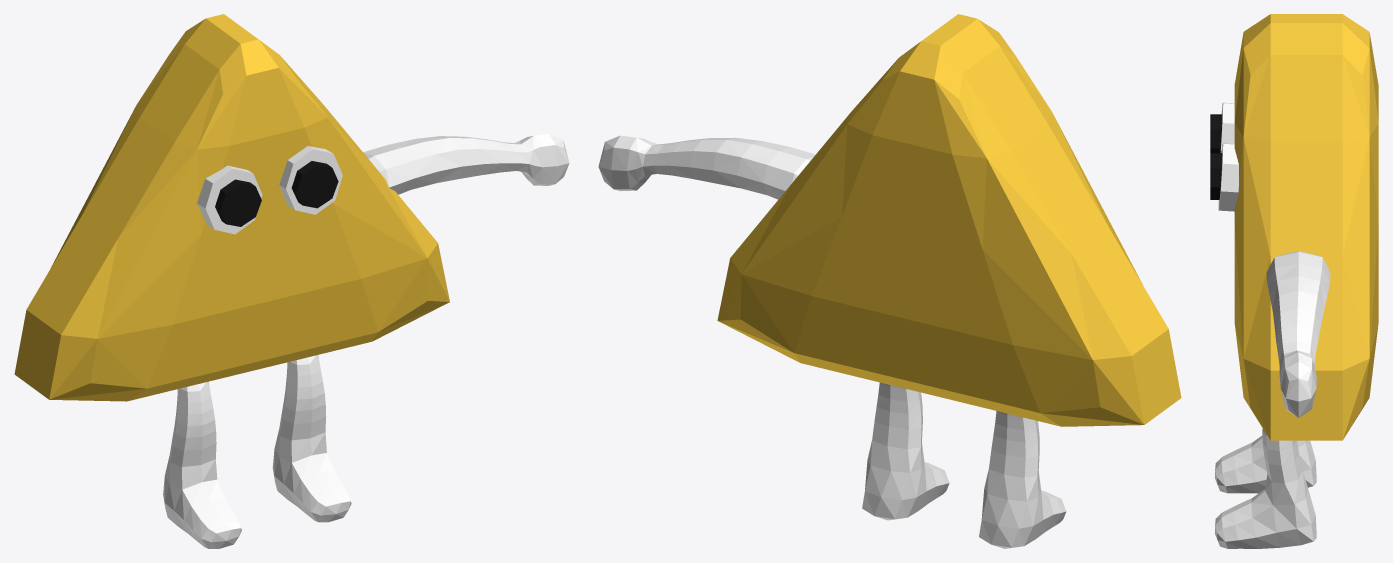
3 renders of one model, left to right at view 1: azimuth 30°, elevation 25°; view 2: azimuth 150°, elevation 25°; view 3: azimuth 270°, elevation 25°, orthographic. The views are drawn at different scales.
Parts seen in each view (by area): view 1: Cube-S3D-15, Cube-S3D-31, leg_l-S3D-21, leg_r-S3D-23, eyewhhite-S3D-29, eyewhhite-S3D-24, Cylinder-S3D-25, Cylinder-S3D-30; view 2: Cube-S3D-15, Cube-S3D-31, leg_l-S3D-21, leg_r-S3D-23; view 3: Cube-S3D-15, Cube-S3D-31, leg_r-S3D-23, leg_l-S3D-21, eyewhhite-S3D-24, eyewhhite-S3D-29, Cylinder-S3D-25, Cylinder-S3D-30.
Boxes of the visible parts, x1,y1,x2,y2 form: Cube-S3D-15: [14, 14, 449, 401]; Cube-S3D-31: [363, 134, 569, 194]; leg_l-S3D-21: [163, 381, 241, 548]; leg_r-S3D-23: [272, 355, 351, 522]; eyewhhite-S3D-29: [197, 165, 262, 234]; eyewhhite-S3D-24: [279, 146, 342, 214]; Cylinder-S3D-25: [291, 161, 338, 208]; Cylinder-S3D-30: [215, 179, 261, 226]; Cube-S3D-15: [717, 14, 1181, 426]; Cube-S3D-31: [598, 135, 815, 199]; leg_l-S3D-21: [979, 411, 1066, 548]; leg_r-S3D-23: [862, 382, 949, 520]; Cube-S3D-15: [1234, 14, 1378, 440]; Cube-S3D-31: [1266, 251, 1330, 417]; leg_r-S3D-23: [1214, 428, 1316, 548]; leg_l-S3D-21: [1215, 436, 1316, 493]; eyewhhite-S3D-24: [1218, 143, 1238, 211]; eyewhhite-S3D-29: [1220, 102, 1234, 152]; Cylinder-S3D-25: [1210, 153, 1222, 199]; Cylinder-S3D-30: [1210, 114, 1222, 152].
Size of the model in its own units: 3.38 by 2.9 by 0.8909.
